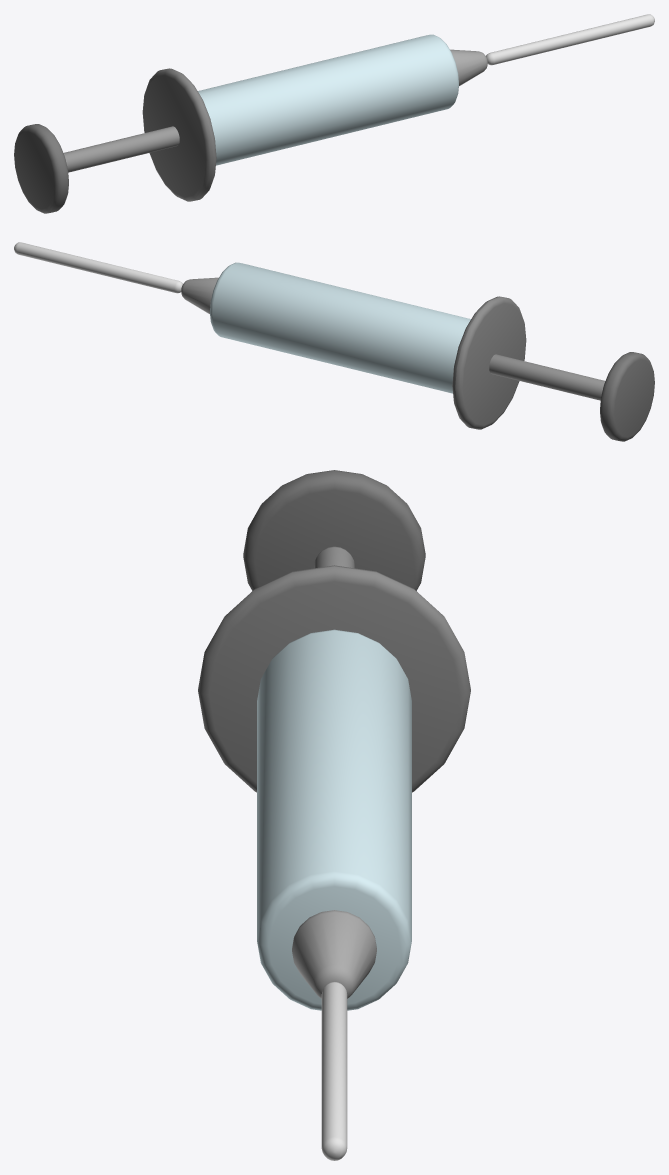
Rendered from syringe.glb.
3 renders of one model, top to bottom at view 1: azimuth 30°, elevation 25°; view 2: azimuth 150°, elevation 25°; view 3: azimuth 270°, elevation 25°, orthographic. The views are drawn at different scales.
Parts seen in each view (by area): view 1: syringe; view 2: syringe; view 3: syringe.
Boxes of the visible parts, bbox=[...] form: syringe: bbox=[14, 14, 654, 213]; syringe: bbox=[14, 242, 654, 441]; syringe: bbox=[198, 470, 470, 1160].
Bounding box in the file's own units: 3.14 × 0.6 × 0.6.
